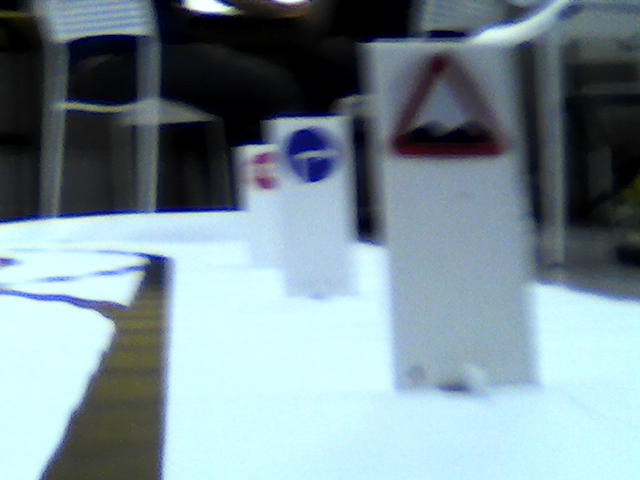Nerov: (386, 49, 502, 158)
